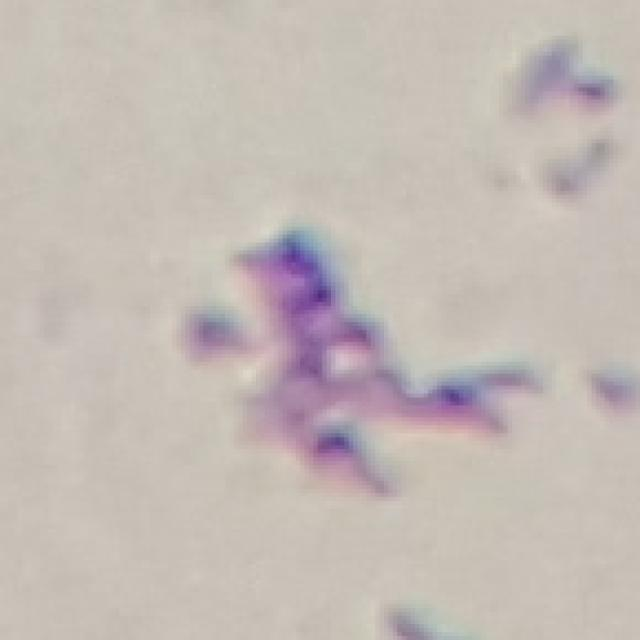non-sperm: (179, 227, 518, 472)
